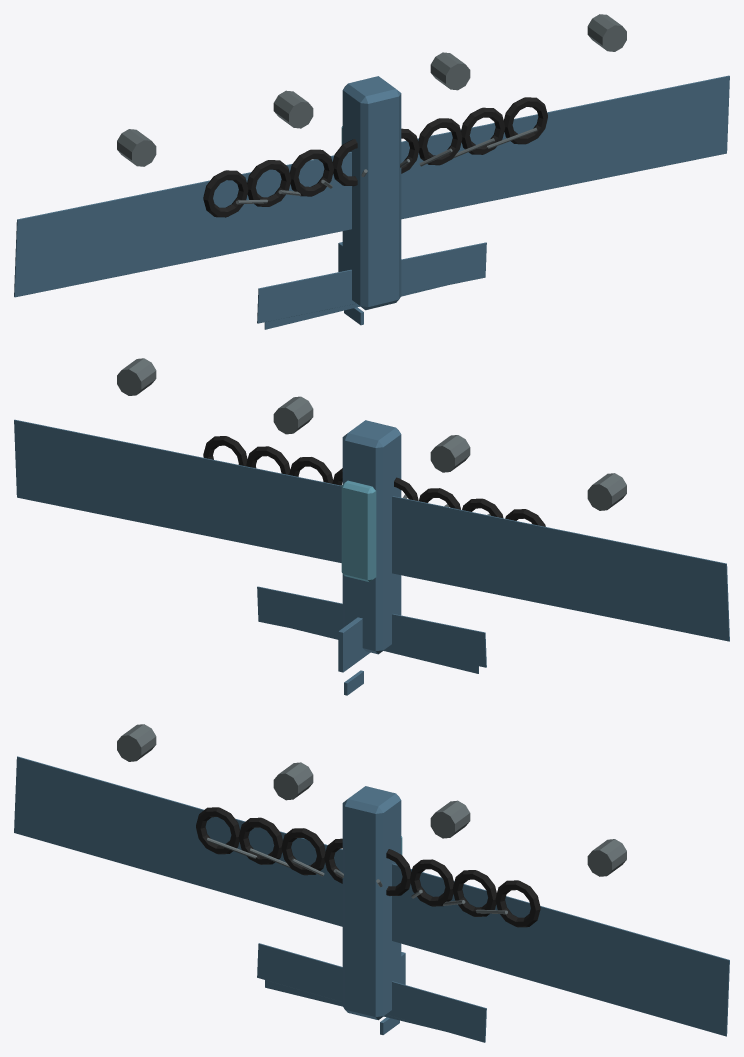
3 renders of one model, top to bottom at view 1: azimuth 30°, elevation 25°; view 2: azimuth 150°, elevation 25°; view 3: azimuth 330°, elevation 25°, orthographic.
Parts seen in each view (by area): view 1: main_wing.060, fuselage.055, horizontal_tail.060, wheel_0.053, wheel_2.006, engine_mount_1.012, engine_mount_2.001, wheel_7.006, engine_mount_0.047, engine_mount_3.001, wheel_1.053, wheel_5.006 (+3 smaller); view 2: main_wing.060, fuselage.055, aileron_R.060, aileron_L.060, horizontal_tail.060, canopy.055, elevator.060, vertical_tail.060, engine_mount_1.012, engine_mount_2.001, engine_mount_3.001, engine_mount_0.047 (+3 smaller); view 3: main_wing.060, fuselage.055, horizontal_tail.060, wheel_7.006, wheel_5.006, engine_mount_1.012, engine_mount_2.001, wheel_0.053, engine_mount_0.047, engine_mount_3.001, wheel_6.006, wheel_2.006 (+3 smaller).
Part boxes in pixels (x1,y1,x2,y2): main_wing.060: [14, 75, 729, 297]; fuselage.055: [342, 76, 401, 310]; horizontal_tail.060: [257, 242, 486, 323]; wheel_0.053: [203, 170, 248, 217]; wheel_2.006: [290, 149, 333, 196]; engine_mount_1.012: [273, 90, 313, 128]; engine_mount_2.001: [430, 52, 470, 90]; wheel_7.006: [504, 97, 547, 144]; engine_mount_0.047: [117, 129, 156, 166]; engine_mount_3.001: [587, 14, 626, 51]; wheel_1.053: [247, 160, 291, 206]; wheel_5.006: [418, 118, 462, 165]; main_wing.060: [14, 419, 729, 641]; fuselage.055: [342, 420, 401, 654]; aileron_R.060: [22, 441, 207, 508]; aileron_L.060: [535, 566, 720, 633]; horizontal_tail.060: [257, 586, 486, 667]; canopy.055: [341, 480, 376, 582]; elevator.060: [264, 602, 478, 673]; vertical_tail.060: [338, 617, 370, 672]; engine_mount_1.012: [430, 435, 470, 472]; engine_mount_2.001: [273, 396, 313, 434]; engine_mount_3.001: [117, 358, 156, 395]; engine_mount_0.047: [587, 473, 626, 510]; main_wing.060: [14, 756, 729, 1036]; fuselage.055: [342, 786, 401, 1020]; horizontal_tail.060: [257, 943, 486, 1042]; wheel_7.006: [495, 880, 540, 927]; wheel_5.006: [410, 859, 453, 906]; engine_mount_1.012: [273, 762, 313, 800]; engine_mount_2.001: [430, 800, 470, 838]; wheel_0.053: [196, 807, 239, 854]; engine_mount_0.047: [117, 724, 156, 761]; engine_mount_3.001: [587, 839, 626, 876]; wheel_6.006: [452, 870, 496, 916]; wheel_2.006: [281, 828, 325, 875].
Bounding box in the file's own units: 72.13 × 24.55 × 8.27.
